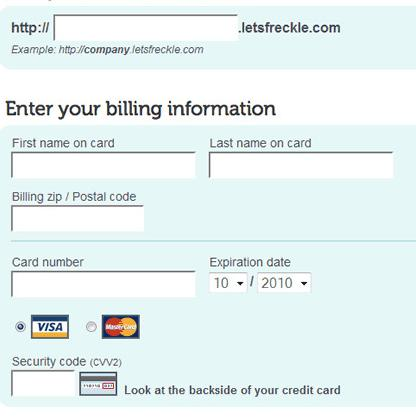field: (4, 149, 197, 180), (10, 268, 197, 299), (206, 150, 395, 180), (51, 14, 240, 42), (7, 204, 146, 234), (10, 370, 77, 399), (255, 272, 311, 295), (209, 273, 249, 295)
field_with_label: (7, 257, 199, 302), (1, 138, 197, 182), (10, 11, 243, 42), (4, 192, 149, 235), (207, 257, 313, 297), (7, 357, 88, 401)
radio: (16, 313, 27, 337), (82, 321, 97, 333)
